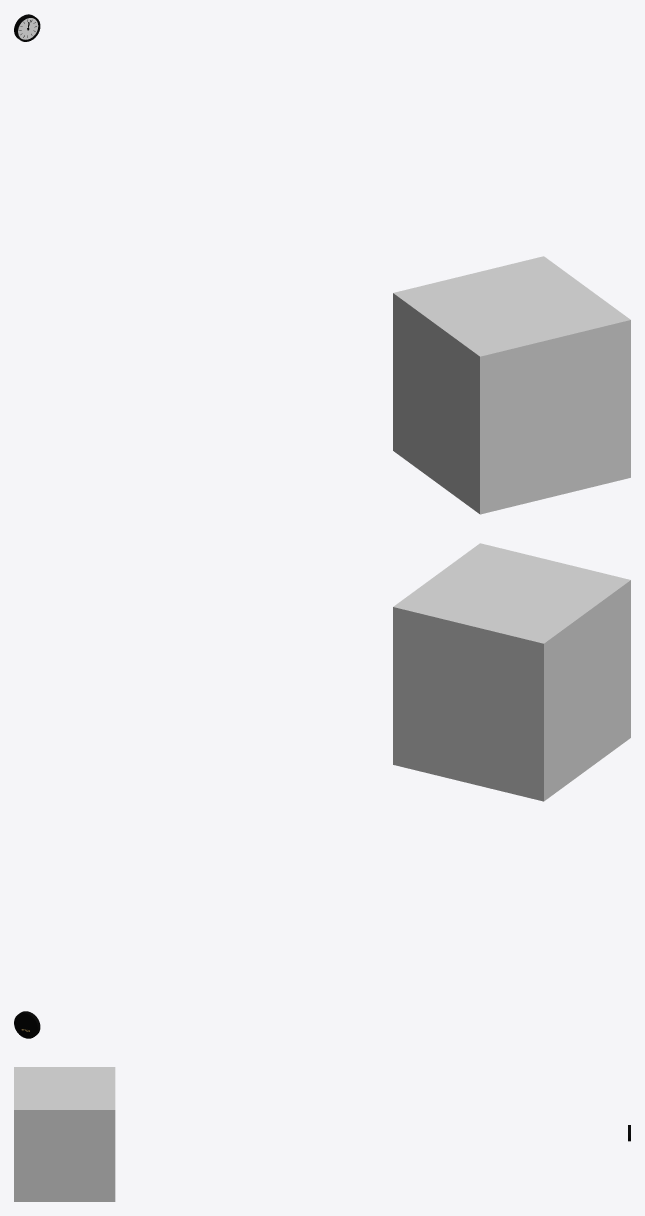
File: clokc.glb
3 views of the same model, one above another, from view 1: azimuth 30°, elevation 25°; view 2: azimuth 150°, elevation 25°; view 3: azimuth 270°, elevation 25° (orthographic). The views are drawn at different scales.
Visible parts, largest first — view 1: Cube; view 2: Cube; view 3: Cube.
Boxes of the visible parts, <box> form: Cube: <box>393,256,630,514</box>; Cube: <box>393,543,630,801</box>; Cube: <box>14,1067,115,1201</box>.
Bounding box in the file's own units: 2 × 2 × 12.16.
Materials: 3 (1 with a texture image).
